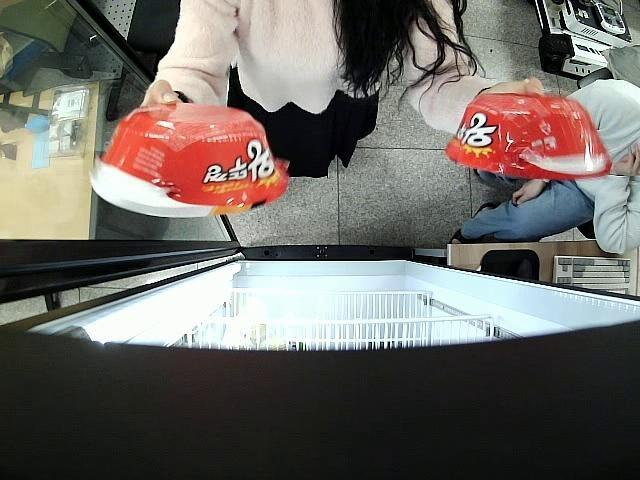10_wangTtukkeong: (90, 103, 288, 218), (445, 90, 612, 182)
